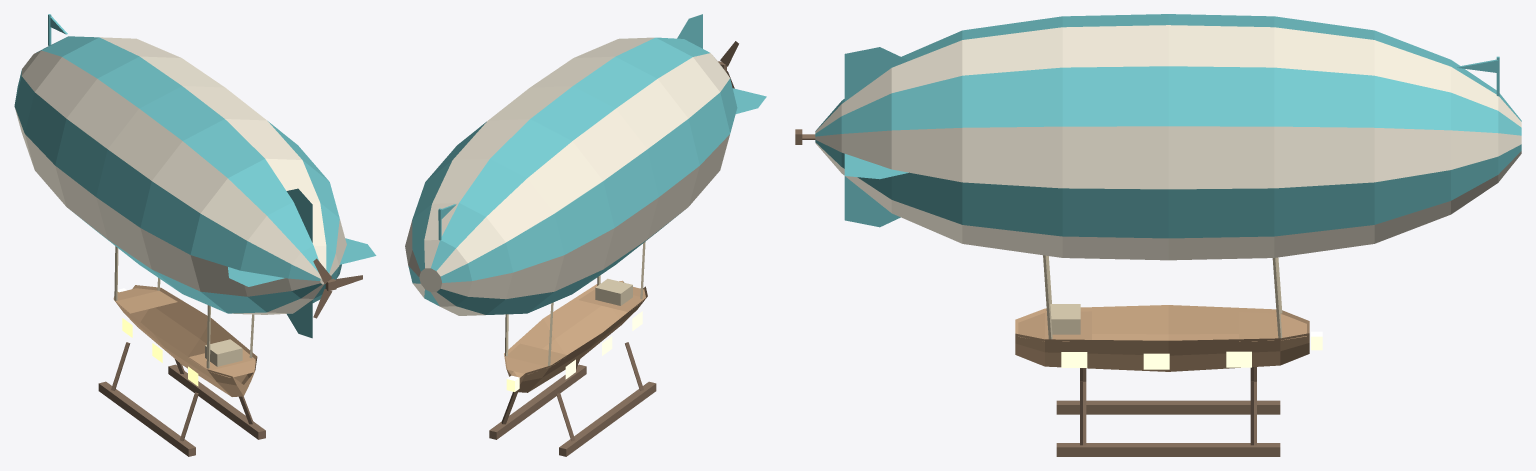
File: 67-Vehiculos_globo_del_viento.glb
The picture shows the model from 3 angles, left to right: view 1: azimuth 30°, elevation 25°; view 2: azimuth 150°, elevation 25°; view 3: azimuth 270°, elevation 25°; orthographic projection. The views are drawn at different scales.
Visible parts, largest first — view 1: SM_Globo_M_Globo_Acento, SM_Globo_M_Globo_Lona, SM_Globo_M_Globo_Madera, SM_Globo_M_Globo_MaderaOscura, SM_Globo_M_Globo_Cuerda, SM_Globo_M_Globo_Farol; view 2: SM_Globo_M_Globo_Lona, SM_Globo_M_Globo_Acento, SM_Globo_M_Globo_Madera, SM_Globo_M_Globo_MaderaOscura, SM_Globo_M_Globo_Cuerda, SM_Globo_M_Globo_Farol; view 3: SM_Globo_M_Globo_Acento, SM_Globo_M_Globo_Lona, SM_Globo_M_Globo_Madera, SM_Globo_M_Globo_MaderaOscura, SM_Globo_M_Globo_Cuerda, SM_Globo_M_Globo_Farol.
Part boxes in pixels (<box>): SM_Globo_M_Globo_Acento: <box>14,14,376,338</box>; SM_Globo_M_Globo_Lona: <box>15,37,346,314</box>; SM_Globo_M_Globo_Madera: <box>113,285,257,396</box>; SM_Globo_M_Globo_MaderaOscura: <box>98,258,362,456</box>; SM_Globo_M_Globo_Cuerda: <box>114,246,254,368</box>; SM_Globo_M_Globo_Farol: <box>117,288,198,386</box>; SM_Globo_M_Globo_Lona: <box>405,37,729,315</box>; SM_Globo_M_Globo_Acento: <box>408,14,766,314</box>; SM_Globo_M_Globo_Madera: <box>504,280,647,392</box>; SM_Globo_M_Globo_MaderaOscura: <box>489,41,738,456</box>; SM_Globo_M_Globo_Cuerda: <box>505,241,645,365</box>; SM_Globo_M_Globo_Farol: <box>506,311,642,391</box>; SM_Globo_M_Globo_Acento: <box>815,14,1521,238</box>; SM_Globo_M_Globo_Lona: <box>815,25,1521,260</box>; SM_Globo_M_Globo_Madera: <box>1015,305,1309,371</box>; SM_Globo_M_Globo_MaderaOscura: <box>795,129,1280,456</box>; SM_Globo_M_Globo_Cuerda: <box>1043,255,1282,339</box>; SM_Globo_M_Globo_Farol: <box>1061,331,1322,369</box>.
Bounding box in the file's own units: 4.2 × 7.65 × 12.34.
